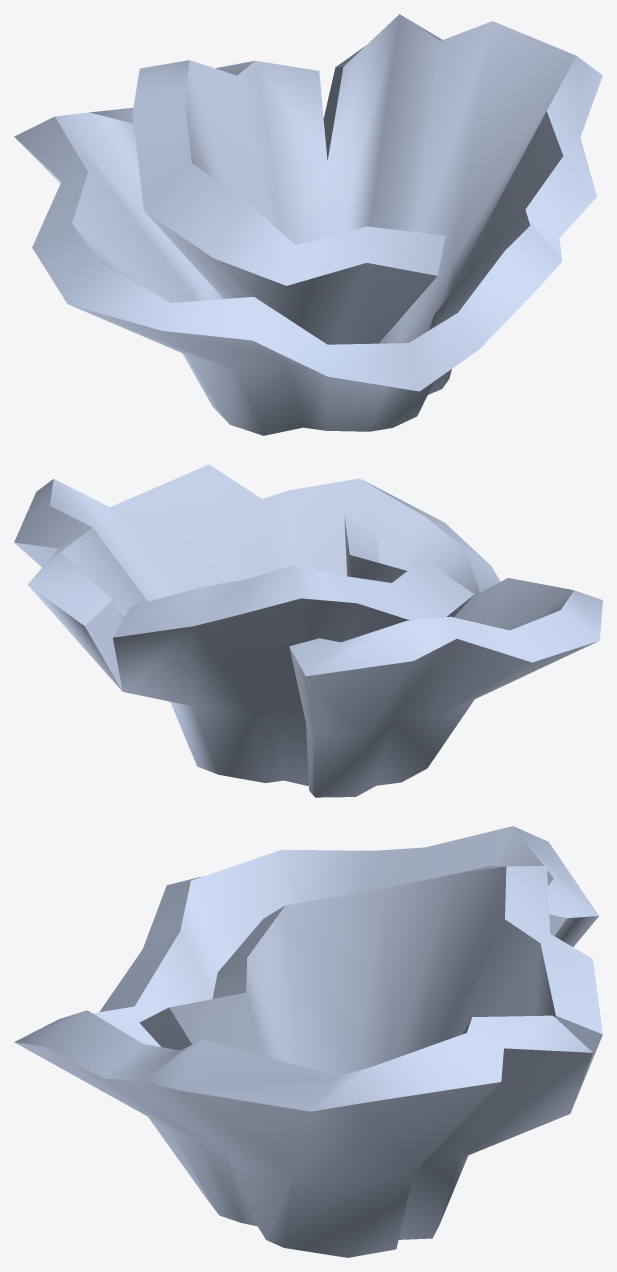
File: CoralIB.fbx
3 renders of one model, top to bottom at view 1: azimuth 30°, elevation 25°; view 2: azimuth 150°, elevation 25°; view 3: azimuth 270°, elevation 25°, orthographic. The views are drawn at different scales.
Parts seen in each view (by area): view 1: CoralIB; view 2: CoralIB; view 3: CoralIB.
Boxes of the visible parts, x1=… form: CoralIB: x1=14, y1=14, x2=602, y2=435; CoralIB: x1=14, y1=464, x2=602, y2=797; CoralIB: x1=14, y1=826, x2=602, y2=1257.
Bounding box in the file's own units: 94.34 × 43.71 × 77.68.
1 material, 1 textured.
